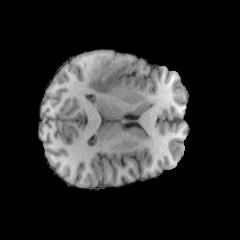glioma: (88, 59, 128, 94)
